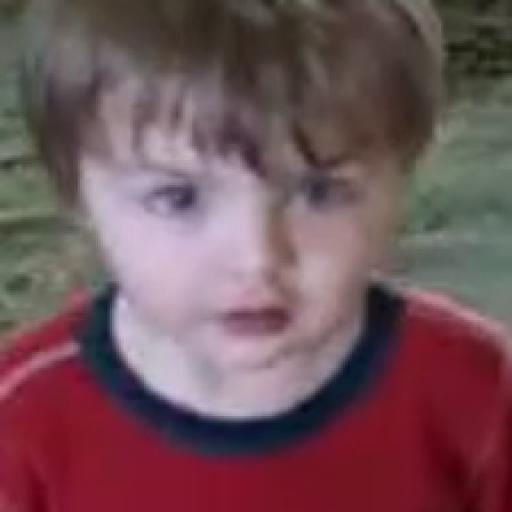Autism: (42, 0, 442, 397)
